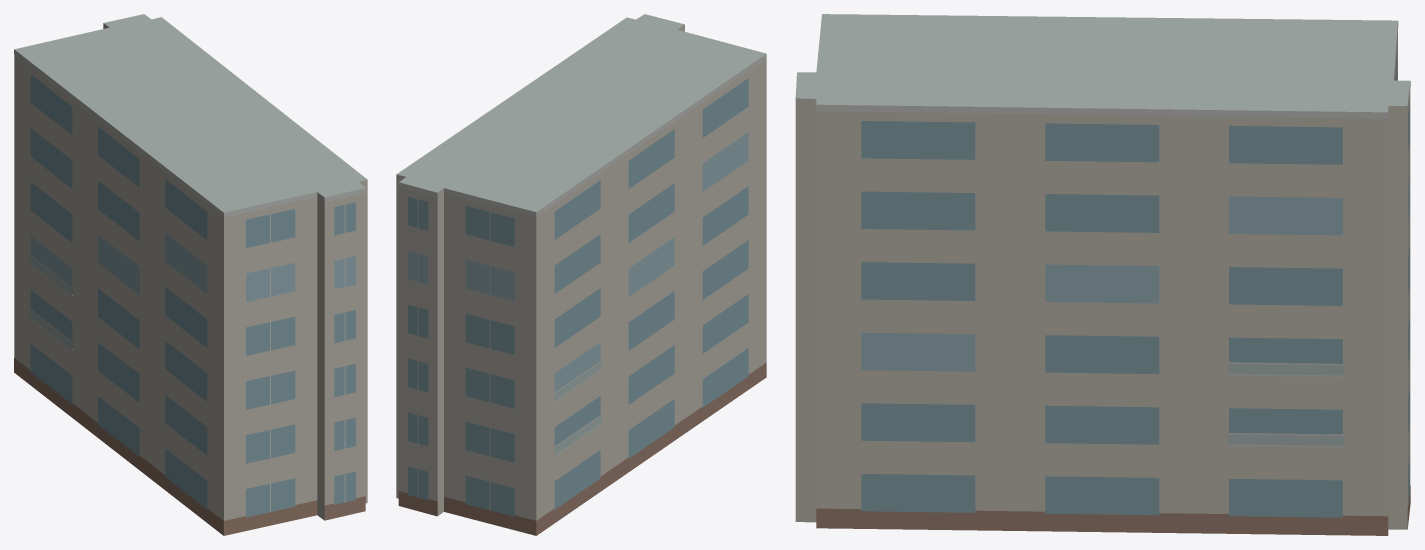
The model's file is survey-upis-32576484.glb.
3 renders of one model, left to right at view 1: azimuth 30°, elevation 25°; view 2: azimuth 150°, elevation 25°; view 3: azimuth 270°, elevation 25°, orthographic. The views are drawn at different scales.
Visible parts, largest first — view 1: survey-upis-32576484.tmp; view 2: survey-upis-32576484.tmp; view 3: survey-upis-32576484.tmp.
Part boxes in pixels (x1=…): survey-upis-32576484.tmp: x1=14, y1=14, x2=367, y2=535; survey-upis-32576484.tmp: x1=396, y1=14, x2=766, y2=535; survey-upis-32576484.tmp: x1=795, y1=14, x2=1410, y2=535.
Bounding box in the file's own units: 8.03 × 16.1 × 21.19.
